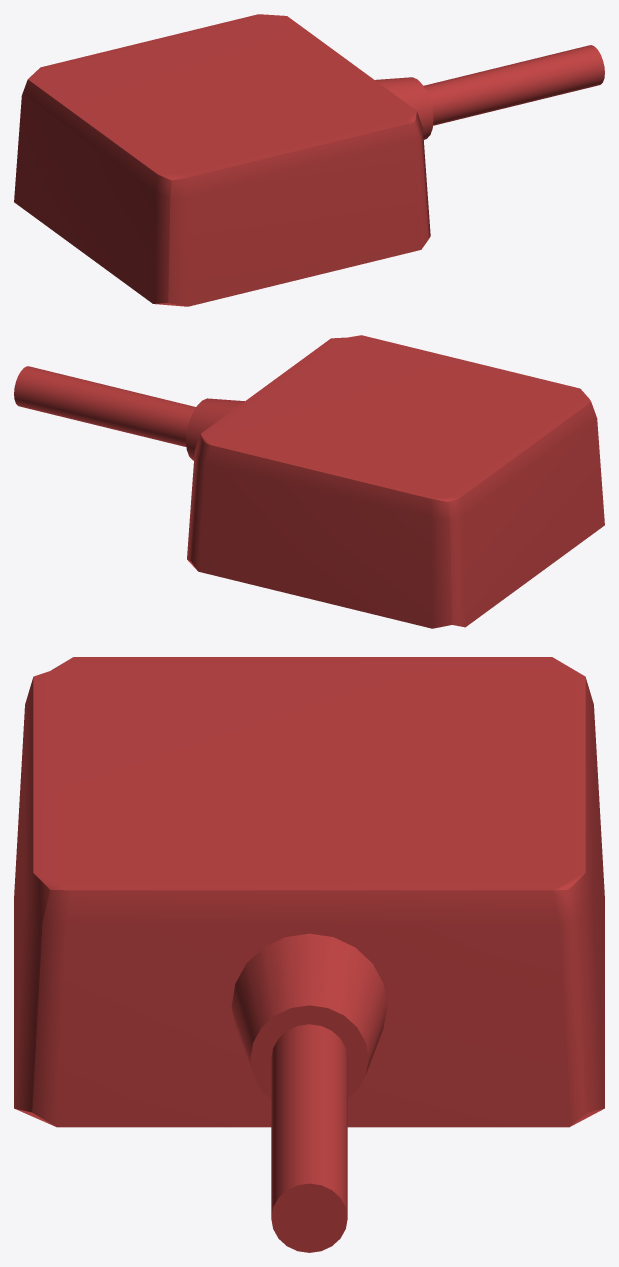
Rendered from toptank.fbx.
3 views of the same model, one above another, from view 1: azimuth 30°, elevation 25°; view 2: azimuth 150°, elevation 25°; view 3: azimuth 270°, elevation 25° (orthographic). The views are drawn at different scales.
Visible parts, largest first — view 1: pCube3, pCylinder2, pCylinder1; view 2: pCube3, pCylinder2, pCylinder1; view 3: pCube3, pCylinder2, pCylinder1.
Boxes of the visible parts, x1,y1,x2,y2 form: pCube3: (14, 14, 430, 306); pCylinder2: (423, 45, 604, 125); pCylinder1: (375, 77, 433, 139); pCube3: (187, 335, 604, 628); pCylinder2: (14, 366, 195, 446); pCylinder1: (186, 398, 244, 460); pCube3: (14, 657, 604, 1127); pCylinder2: (271, 1024, 347, 1252); pCylinder1: (231, 933, 387, 1098).
Bounding box in the file's own units: 12.86 × 3 × 7.
